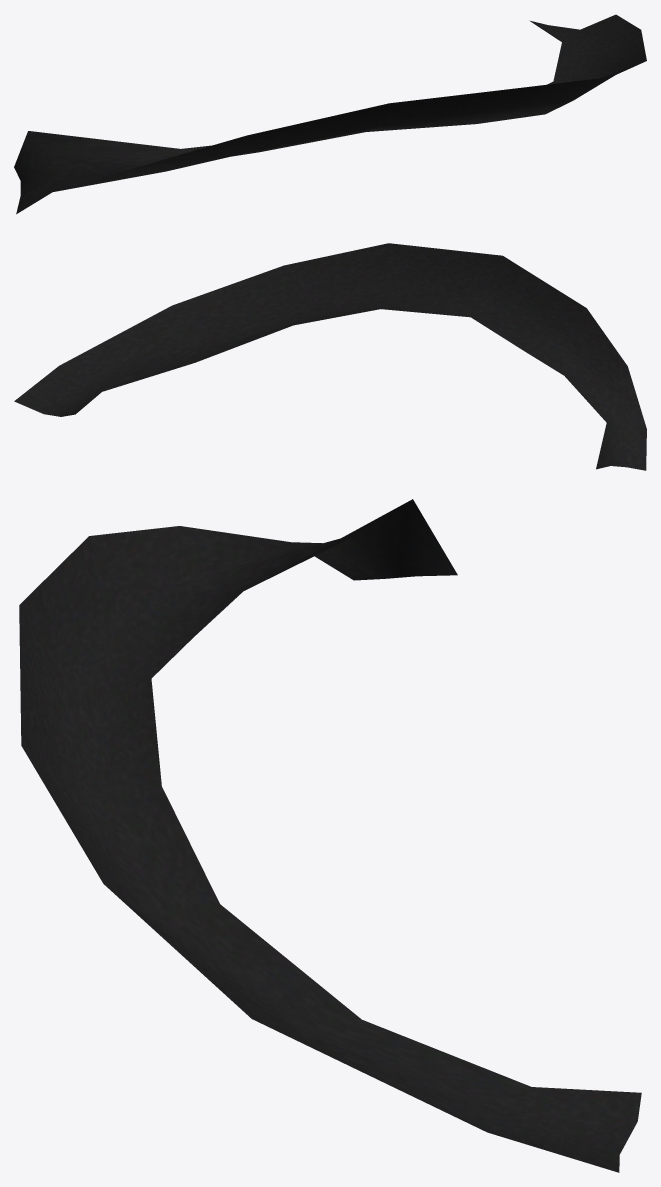
Rendered from Uth_Eyelash_Up_MshShape.obj.
3 views of the same model, one above another, from view 1: azimuth 30°, elevation 25°; view 2: azimuth 150°, elevation 25°; view 3: azimuth 270°, elevation 25° (orthographic). The views are drawn at different scales.
Visible parts, largest first — view 1: Uth_Eyelash_Up_Msh Uth_Eyelash_Lt_Grp Head_Grp SkinnedMesh Mesh ; view 2: Uth_Eyelash_Up_Msh Uth_Eyelash_Lt_Grp Head_Grp SkinnedMesh Mesh ; view 3: Uth_Eyelash_Up_Msh Uth_Eyelash_Lt_Grp Head_Grp SkinnedMesh Mesh .
Part boxes in pixels (x1,y1,x2,y2): Uth_Eyelash_Up_Msh Uth_Eyelash_Lt_Grp Head_Grp SkinnedMesh Mesh : (14, 14, 646, 214); Uth_Eyelash_Up_Msh Uth_Eyelash_Lt_Grp Head_Grp SkinnedMesh Mesh : (14, 243, 646, 470); Uth_Eyelash_Up_Msh Uth_Eyelash_Lt_Grp Head_Grp SkinnedMesh Mesh : (19, 499, 641, 1172).
Bounding box in the file's own units: 3.5 × 0.7321 × 1.67.
1 material, 1 textured.
